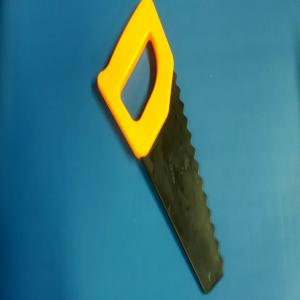serrote: (97, 0, 224, 294)
